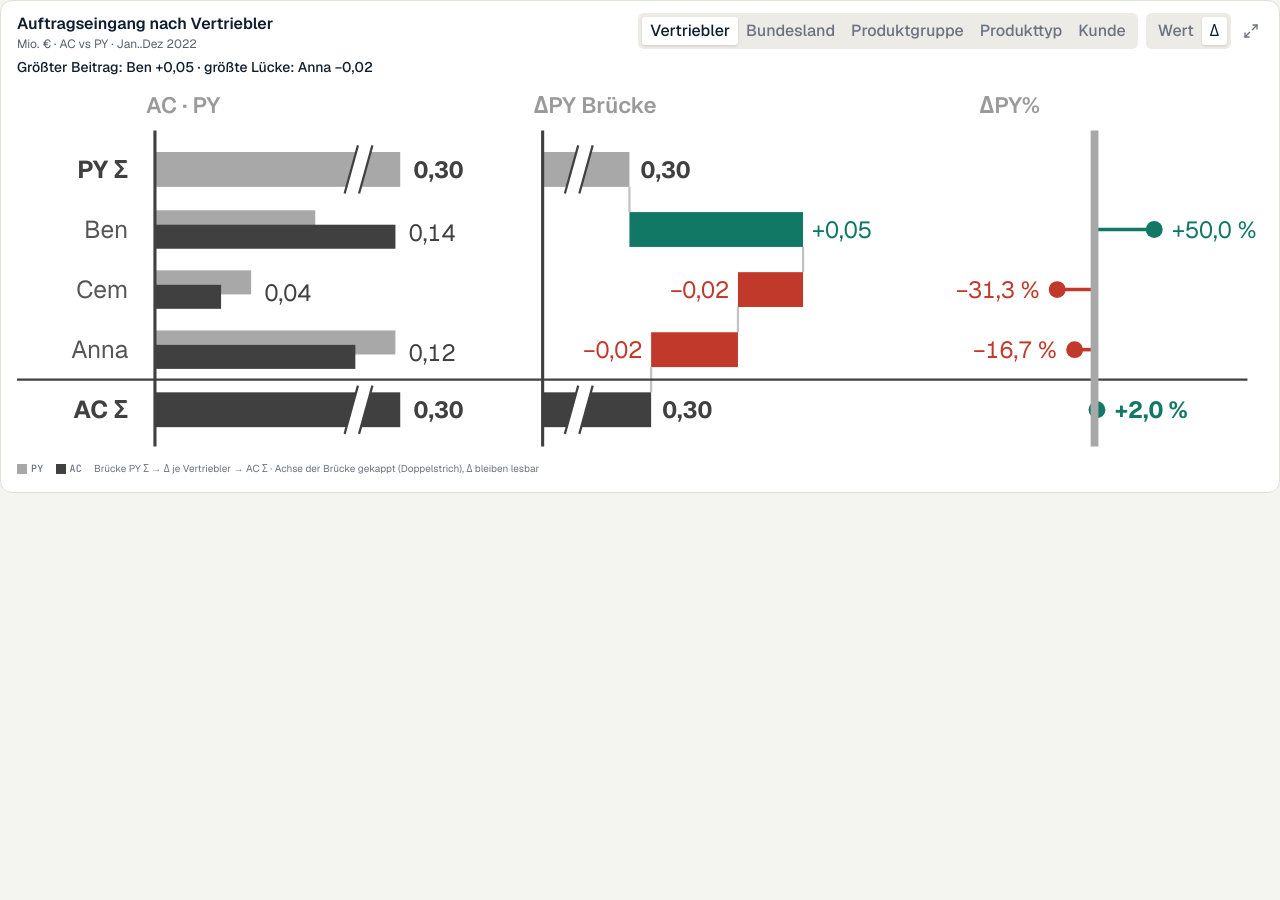
Test: StructureChart › zoom mode › switches between a shared scale and one scale per card
Click the button named "Vergrößern": {"x": 1251, "y": 31} [1239, 19, 1263, 43]
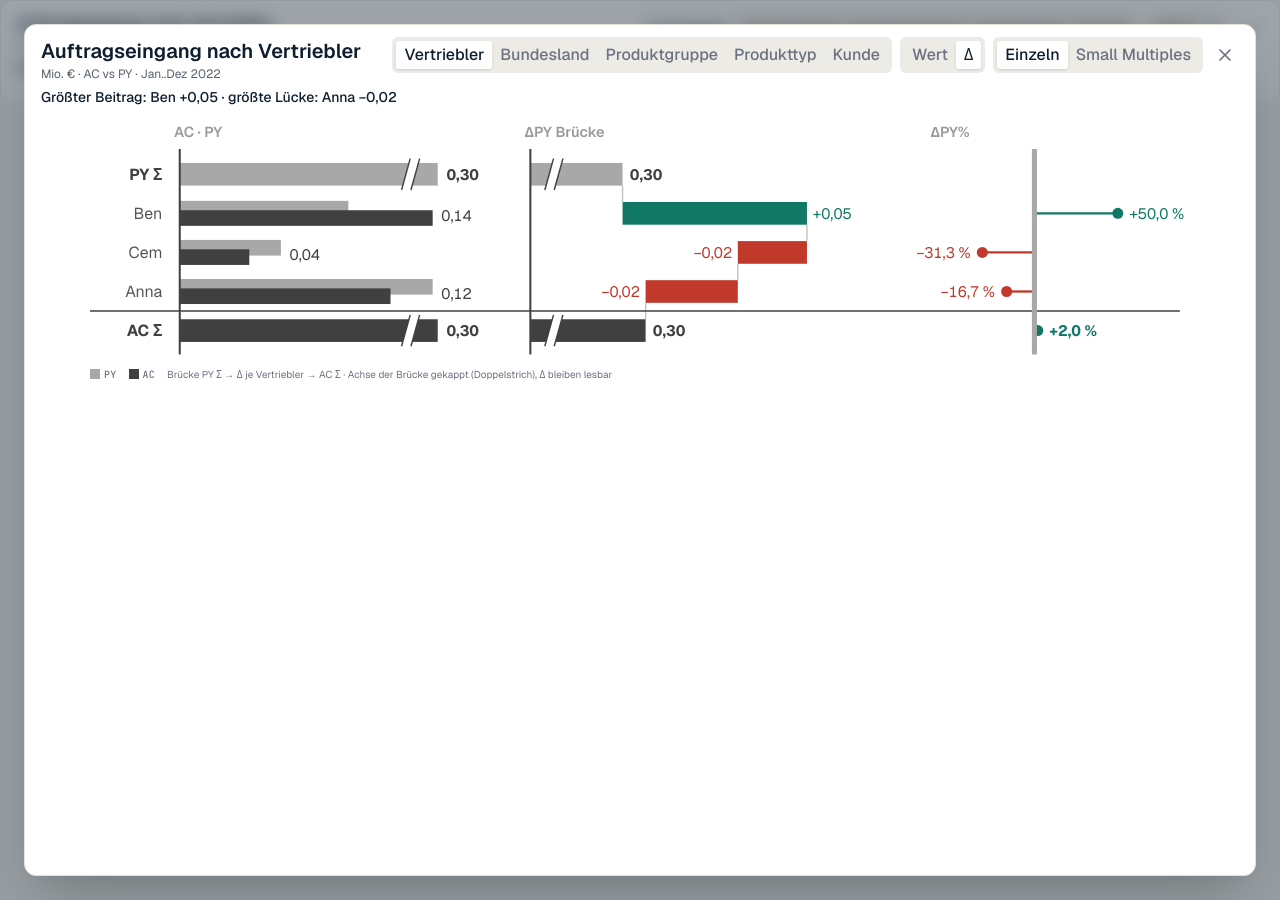
Click the radio button labelled "Small Multiples": {"x": 1133, "y": 55} [1068, 41, 1199, 69]
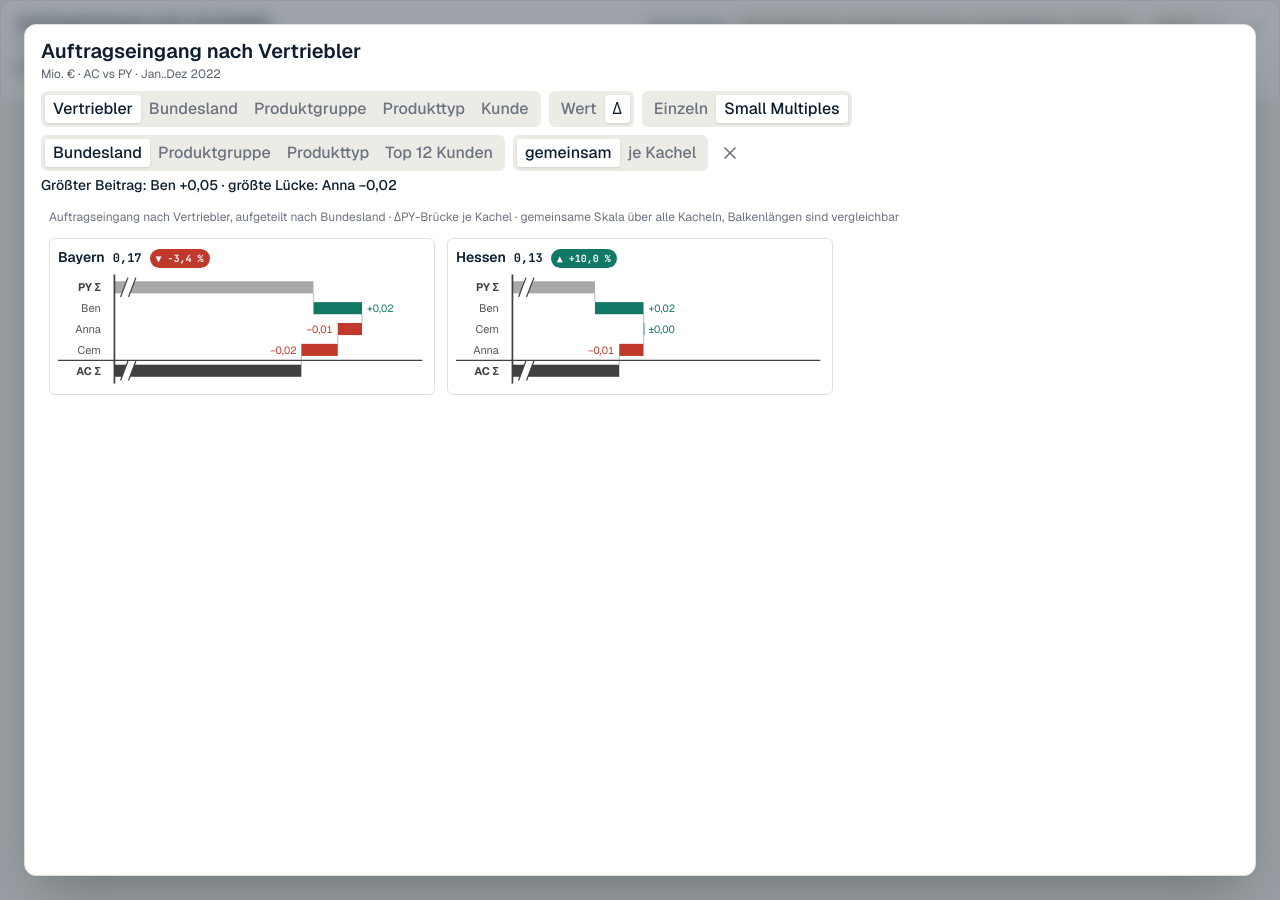
expect the text "gemeinsame Skala über alle Kacheln" is shown: met, box [520, 209, 900, 225]
Click the radio button labelled "je Kachel": {"x": 662, "y": 153} [620, 139, 704, 167]
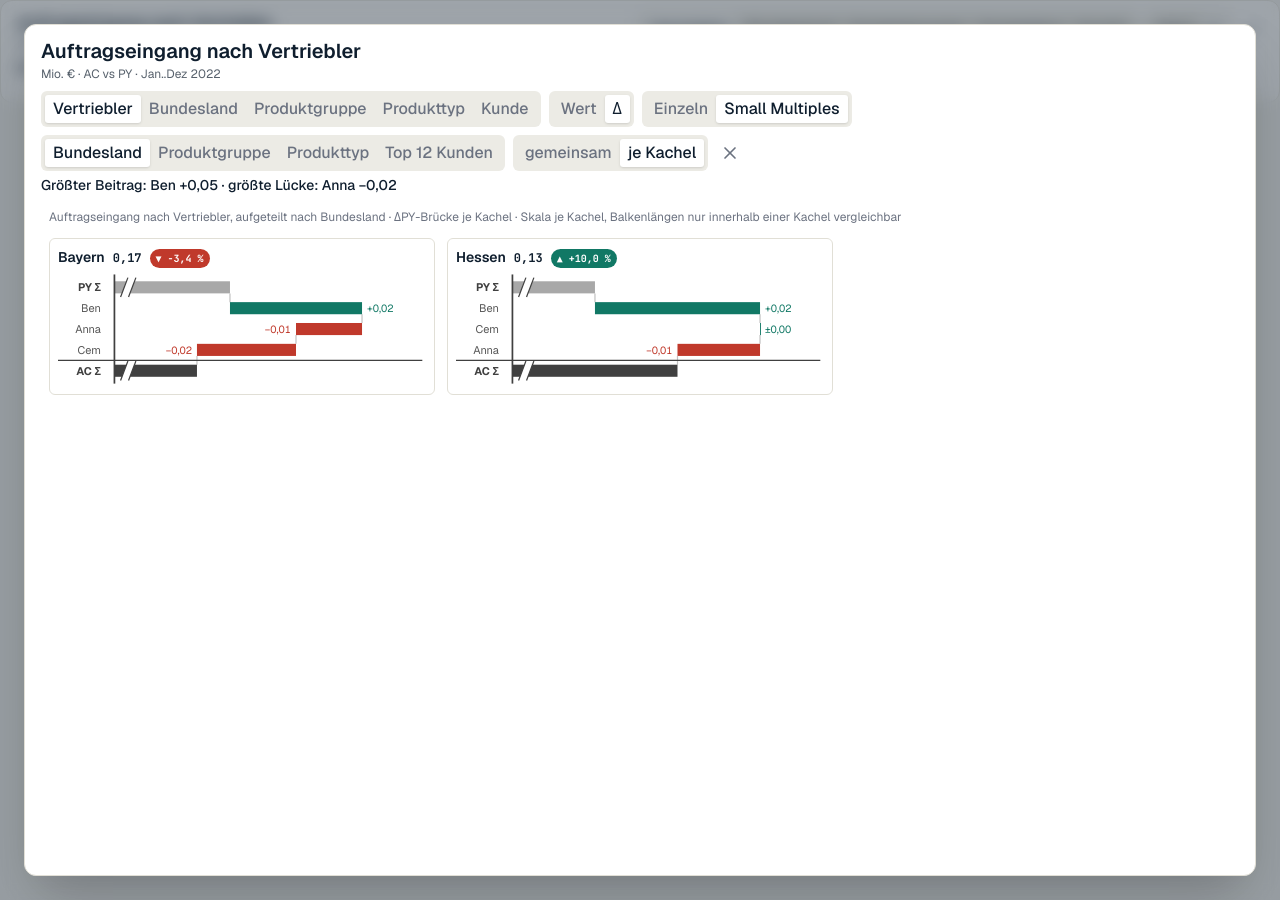
expect the text "Skala je Kachel" is shown: met, box [520, 209, 902, 225]
